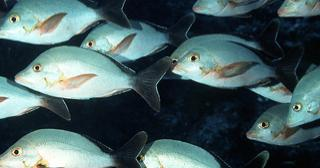Lutjanidae -Snappers-: (11, 41, 175, 123), (174, 36, 307, 100), (0, 125, 154, 168), (0, 0, 130, 43), (0, 66, 75, 129)
